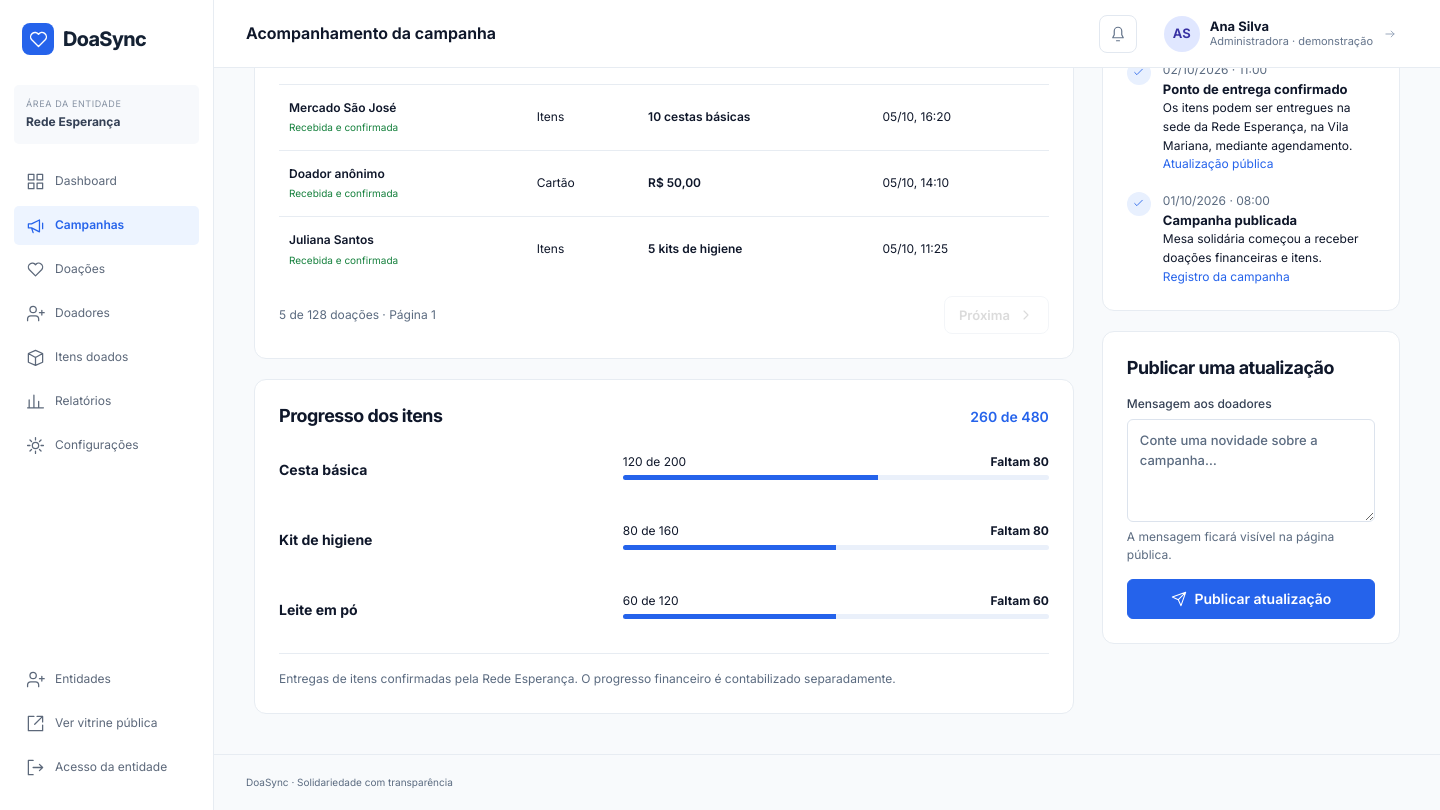
Test: Acompanhamento da campanha (DEV-CAM-09) › exige mensagem antes de publicar e acrescenta a atualização à timeline
(page scrolled)
Click the button "Publicar atualização".
click(1251, 599)  # box [1127,579,1375,619]
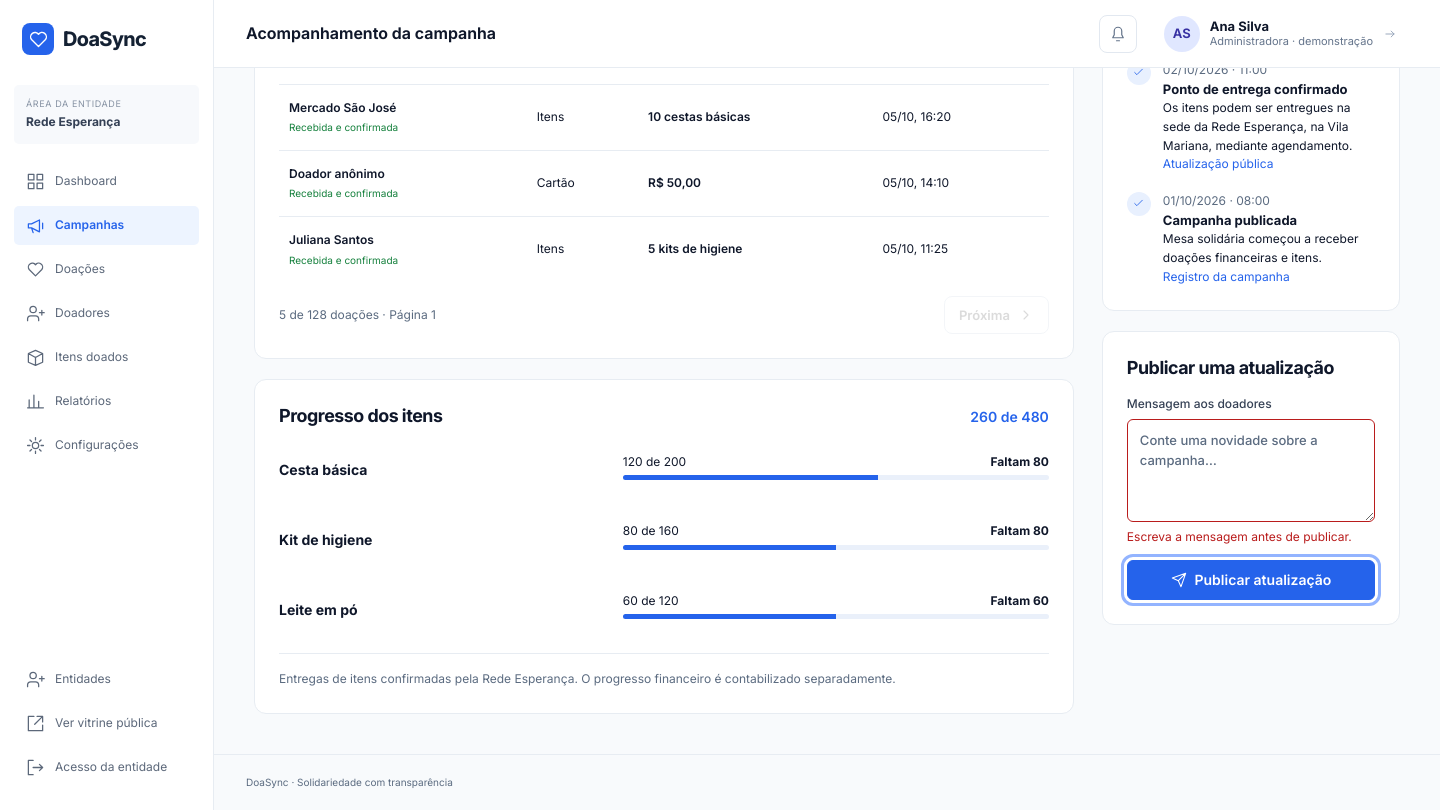
Now the text "Escreva a mensagem antes de publicar." is shown, box [1127,528,1375,546]
Type "Entrega concluída. Obrigado a todos!" into the text box labelled "Mensagem aos doadores".
click(1251, 470); type("Entrega concluída. Obrigado a todos!")  # box [1127,419,1375,522]
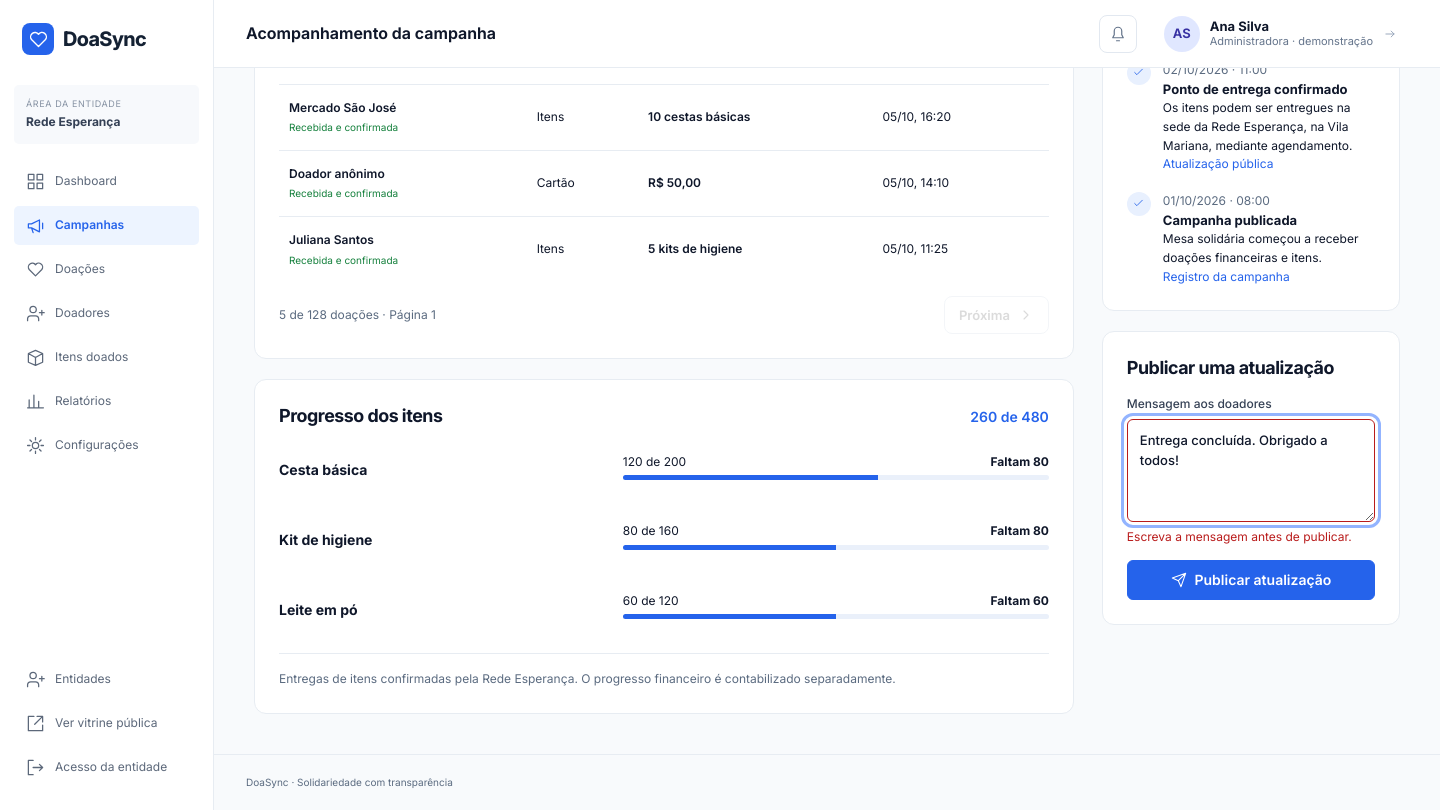
Click the button "Publicar atualização".
click(1251, 580)  # box [1127,560,1375,600]
(page scrolled)
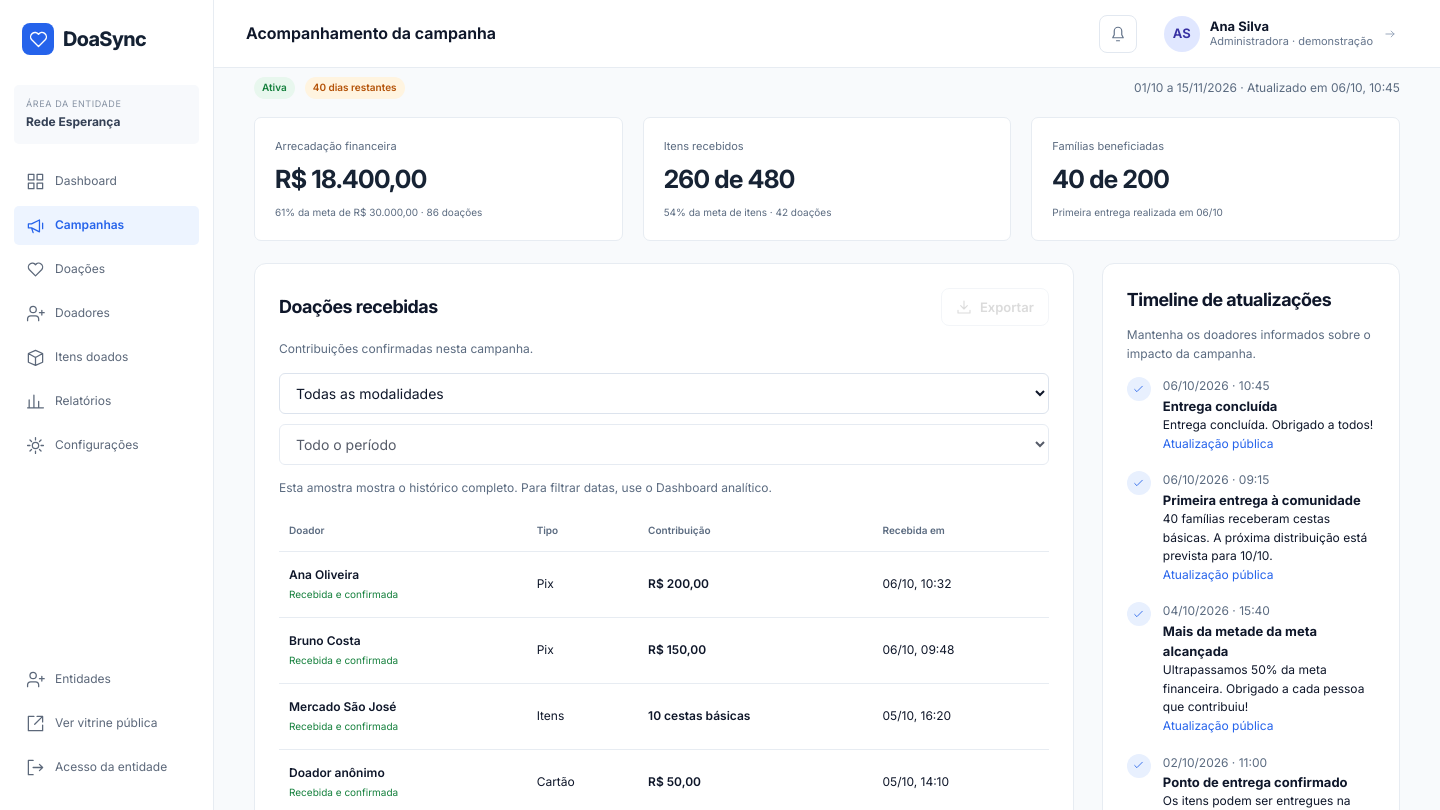
Now the number of list items is 5
Now the text "Entrega concluída" is shown, box [1163,398,1278,414]
